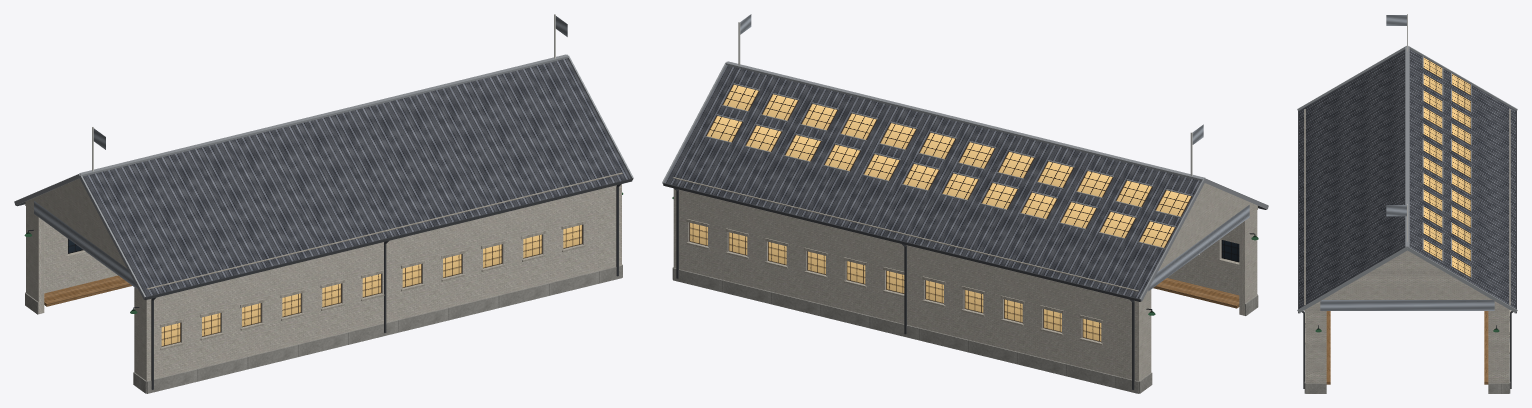
Rendered from depo_lode.glb.
3 views of the same model, side by side, from view 1: azimuth 30°, elevation 25°; view 2: azimuth 150°, elevation 25°; view 3: azimuth 270°, elevation 25° (orthographic). The views are drawn at different scales.
Parts seen in each view (by area): view 1: dum, noc; view 2: dum, noc; view 3: dum, noc.
Boxes of the visible parts, <box> form: dum: <box>14,14,633,393</box>; noc: <box>133,224,582,346</box>; dum: <box>662,14,1268,393</box>; noc: <box>689,84,1191,341</box>; dum: <box>1297,14,1517,393</box>; noc: <box>1423,57,1470,277</box>.
Size of the model in its own units: 29.44 by 12.6 by 13.52.
4 materials, 3 textured.
